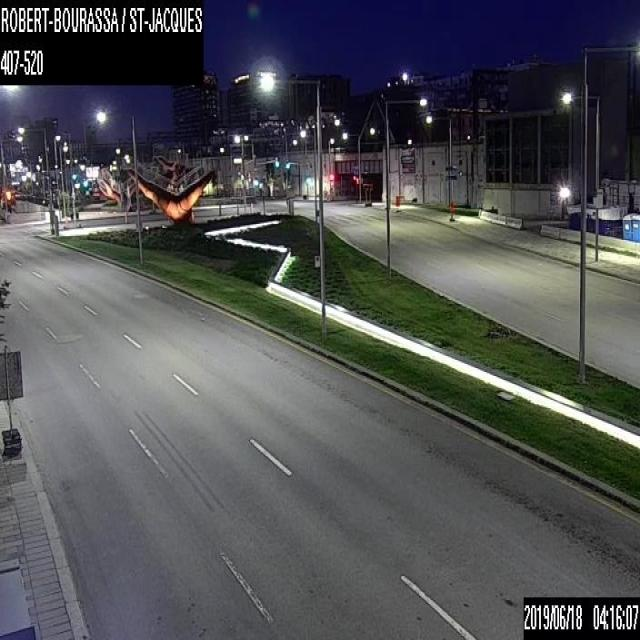construction: (448, 200, 454, 219), (395, 194, 400, 210)
